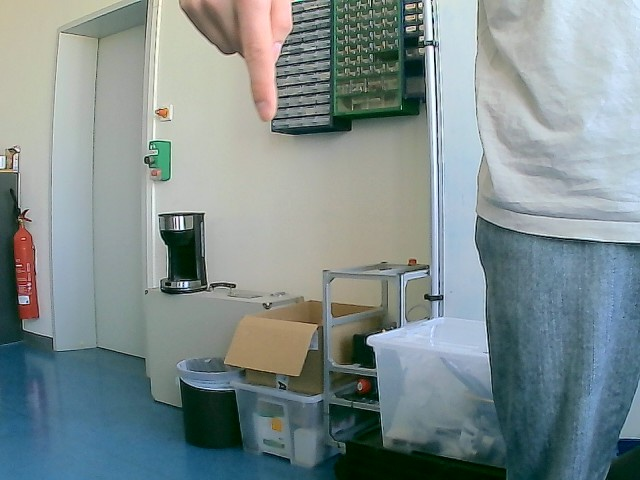down: (177, 0, 294, 123)
